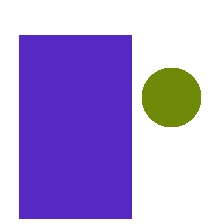circle: (142, 68, 200, 126)
rectangle: (19, 35, 131, 218)
